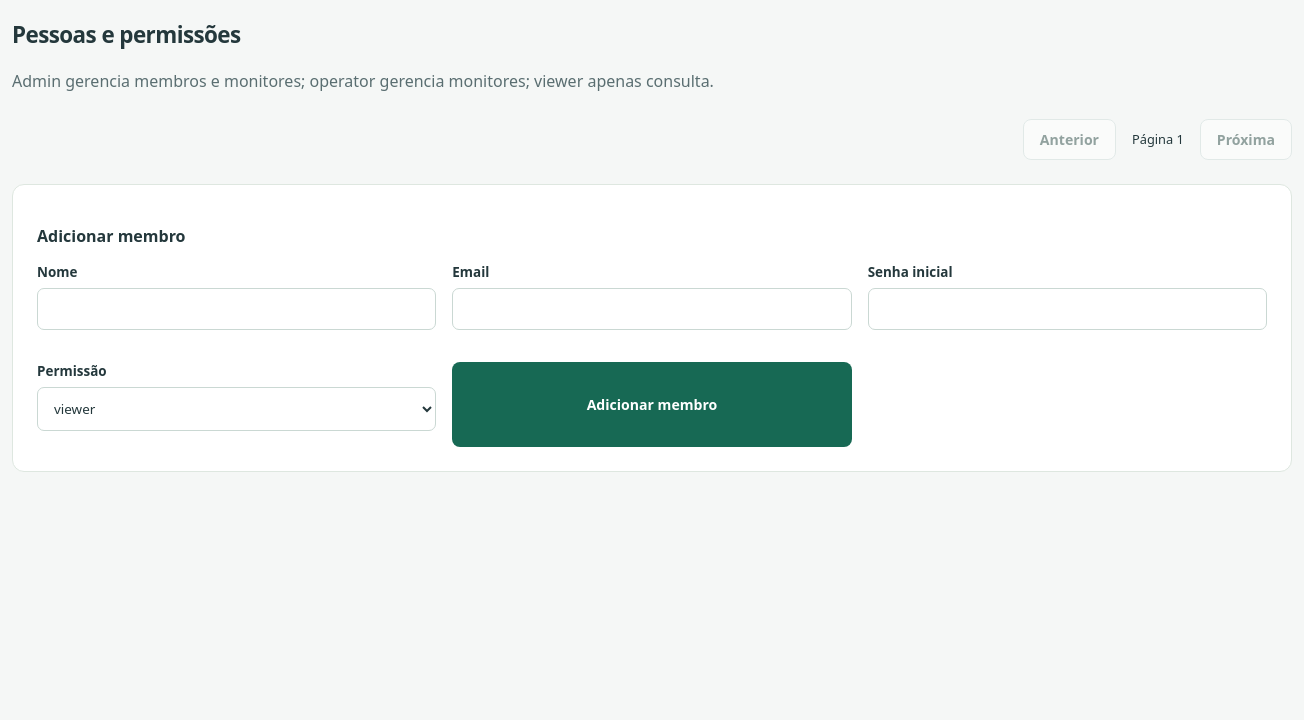
Scenario: MemberManager › creates a member through the injected gateway using the session CSRF token
The width and height of the screenshot is (1304, 720).
Type "Reader" into the field labelled "Nome" at (237, 308), box left=37, top=288, right=436, bottom=330
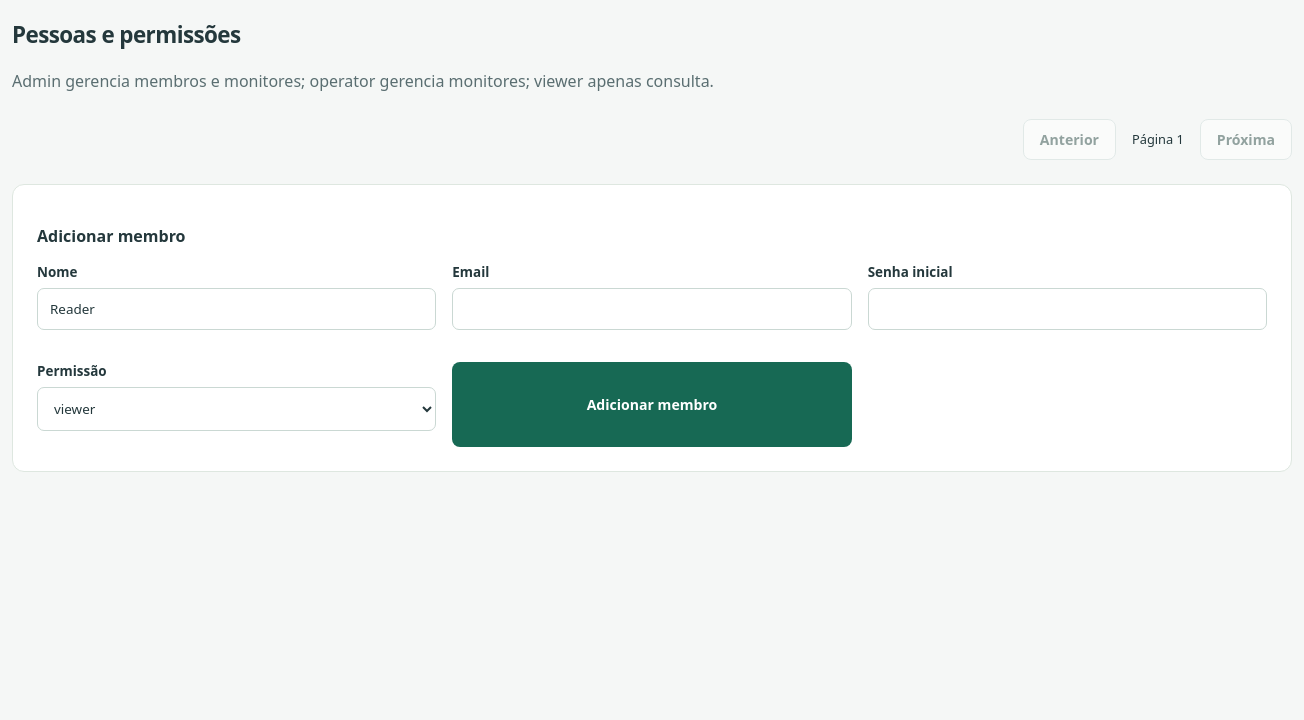
Type "reader@example.com" into the field labelled "Email" at (652, 308), box left=452, top=288, right=852, bottom=330
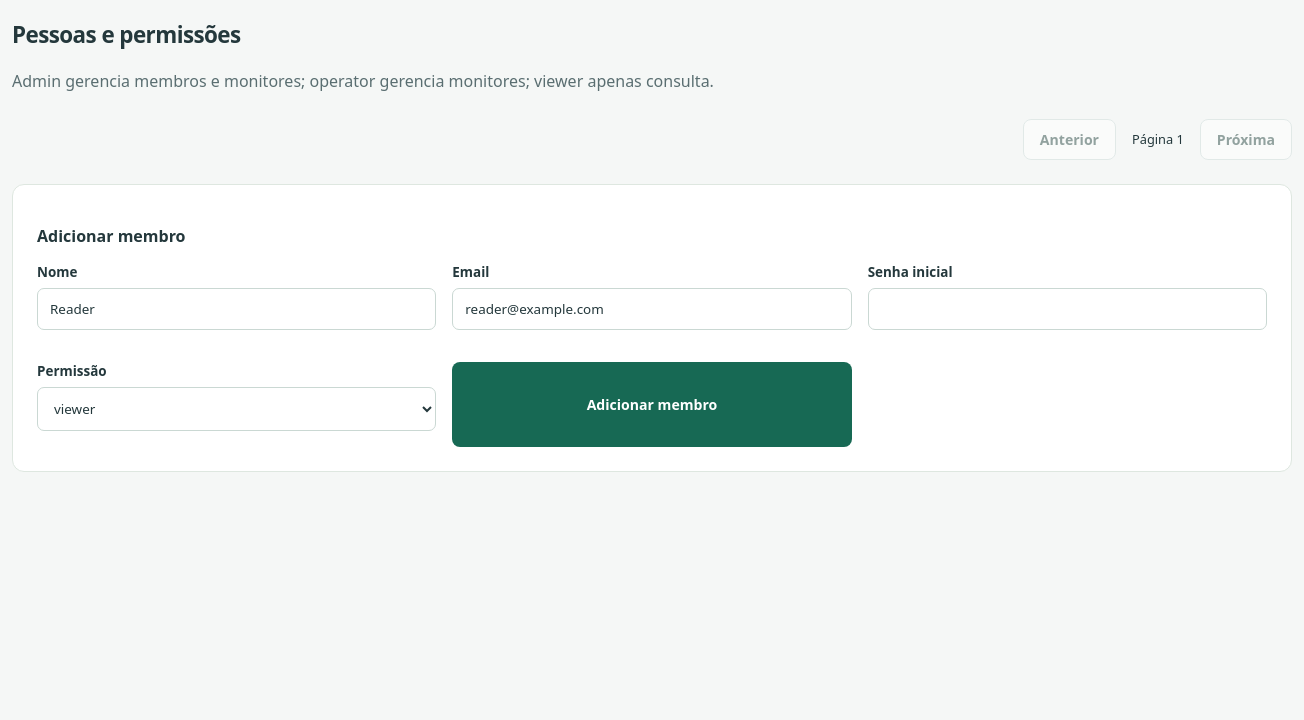
Type "a long initial passphrase" into the password field labelled "Senha inicial" at (1067, 308), box left=868, top=288, right=1267, bottom=330
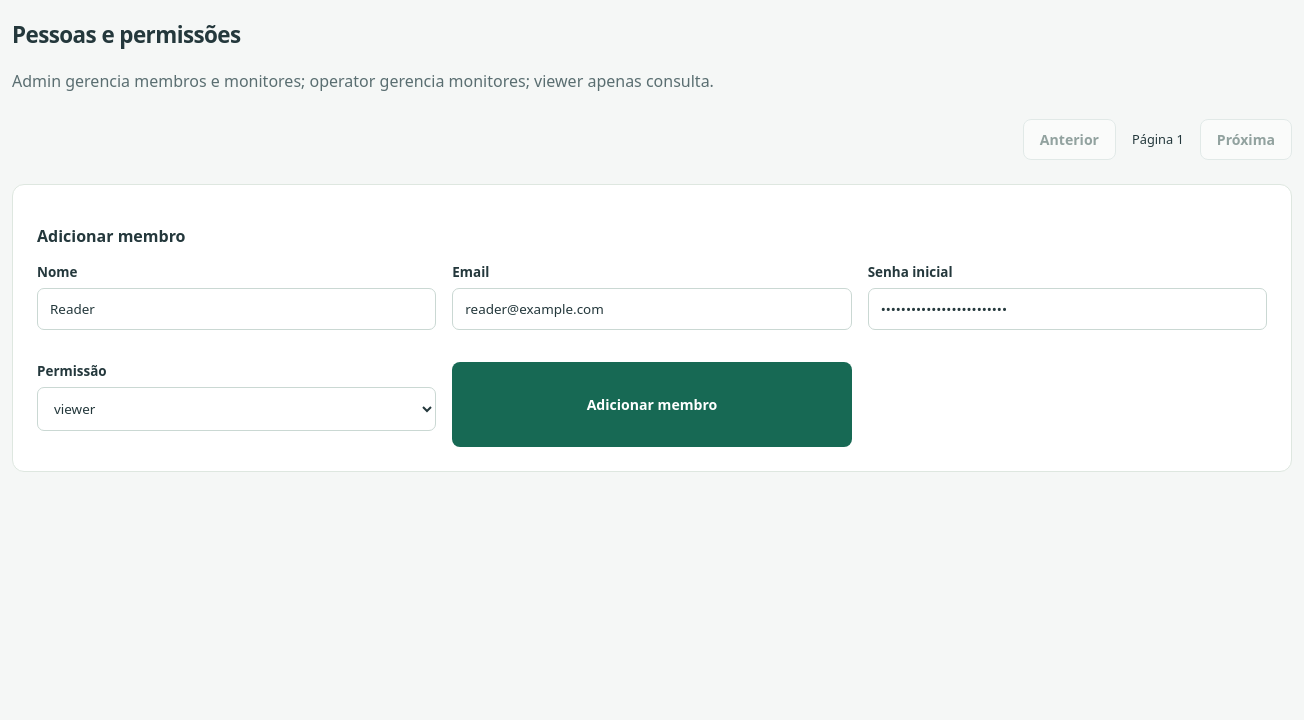
Click the button "Adicionar membro" at (652, 404), box left=452, top=362, right=852, bottom=446
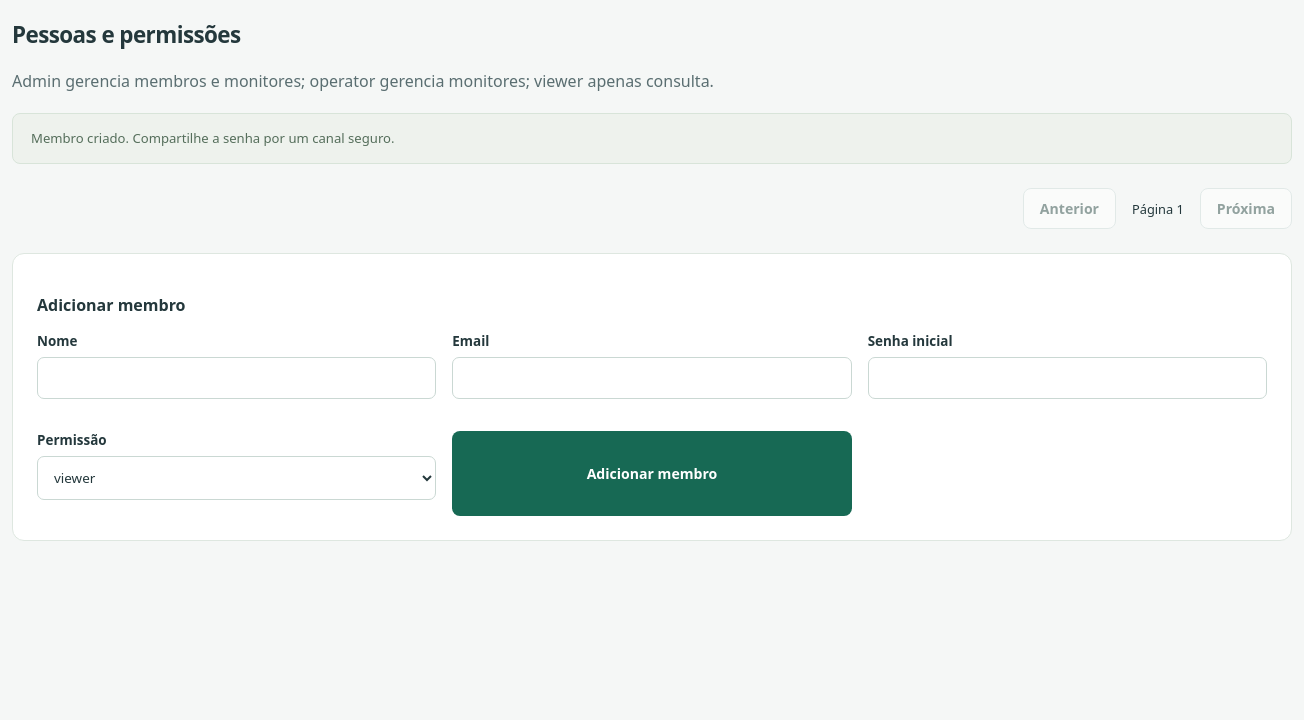
Now the message shows "Membro criado", box left=31, top=128, right=394, bottom=146
